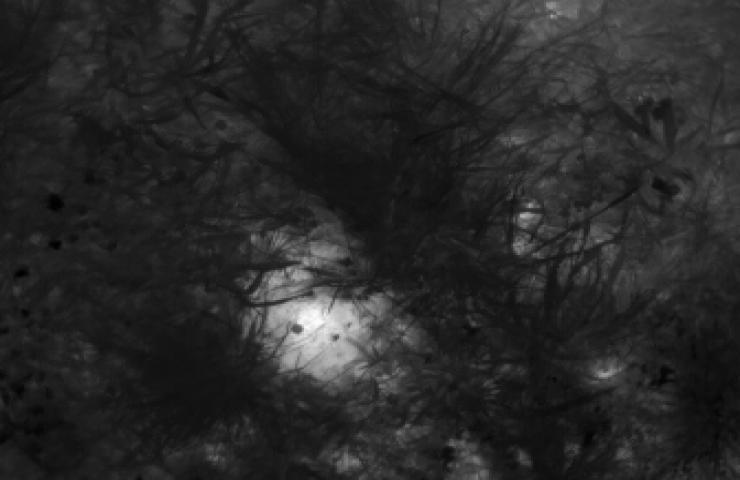landmines: (236, 217, 435, 401)
